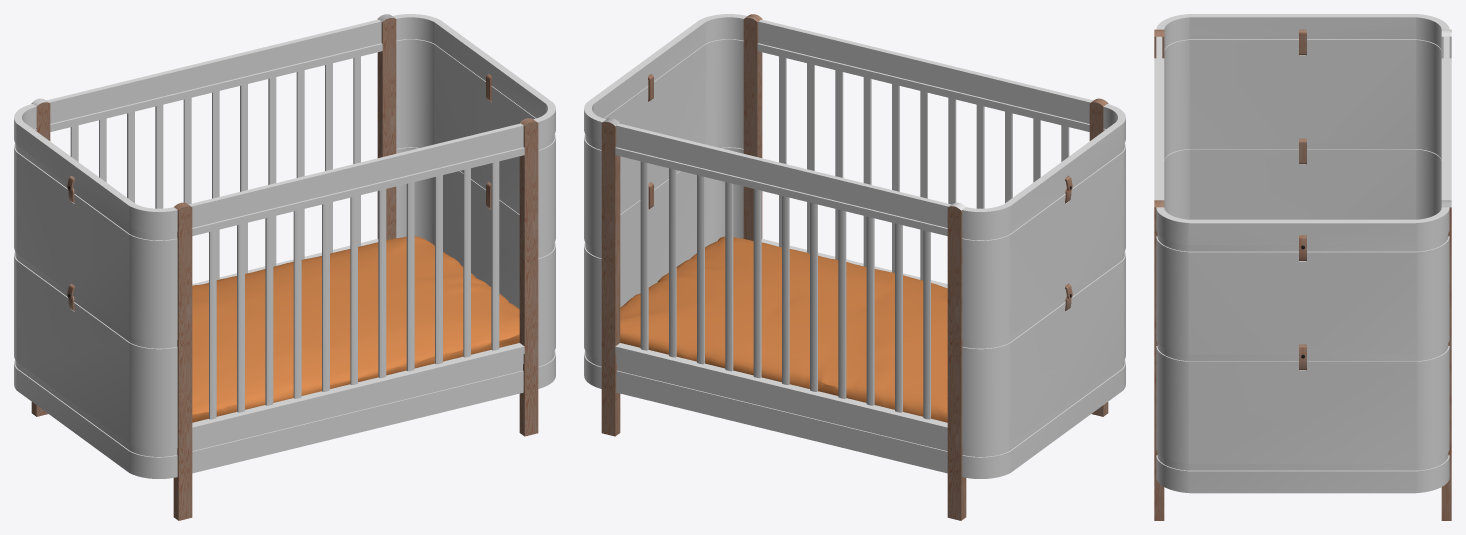
Rendered from whitewoodcot.gltf.
3 renders of one model, left to right at view 1: azimuth 30°, elevation 25°; view 2: azimuth 150°, elevation 25°; view 3: azimuth 270°, elevation 25°, orthographic.
Visible parts, largest first — view 1: Mesh; view 2: Mesh; view 3: Mesh.
Boxes of the visible parts, x1,y1,x2,y2 form: Mesh: [14, 14, 555, 520]; Mesh: [584, 14, 1125, 520]; Mesh: [1154, 14, 1451, 520].
Bounding box in the file's own units: 1.26 × 0.8708 × 0.7421.
Materials: 1 (1 with a texture image).
